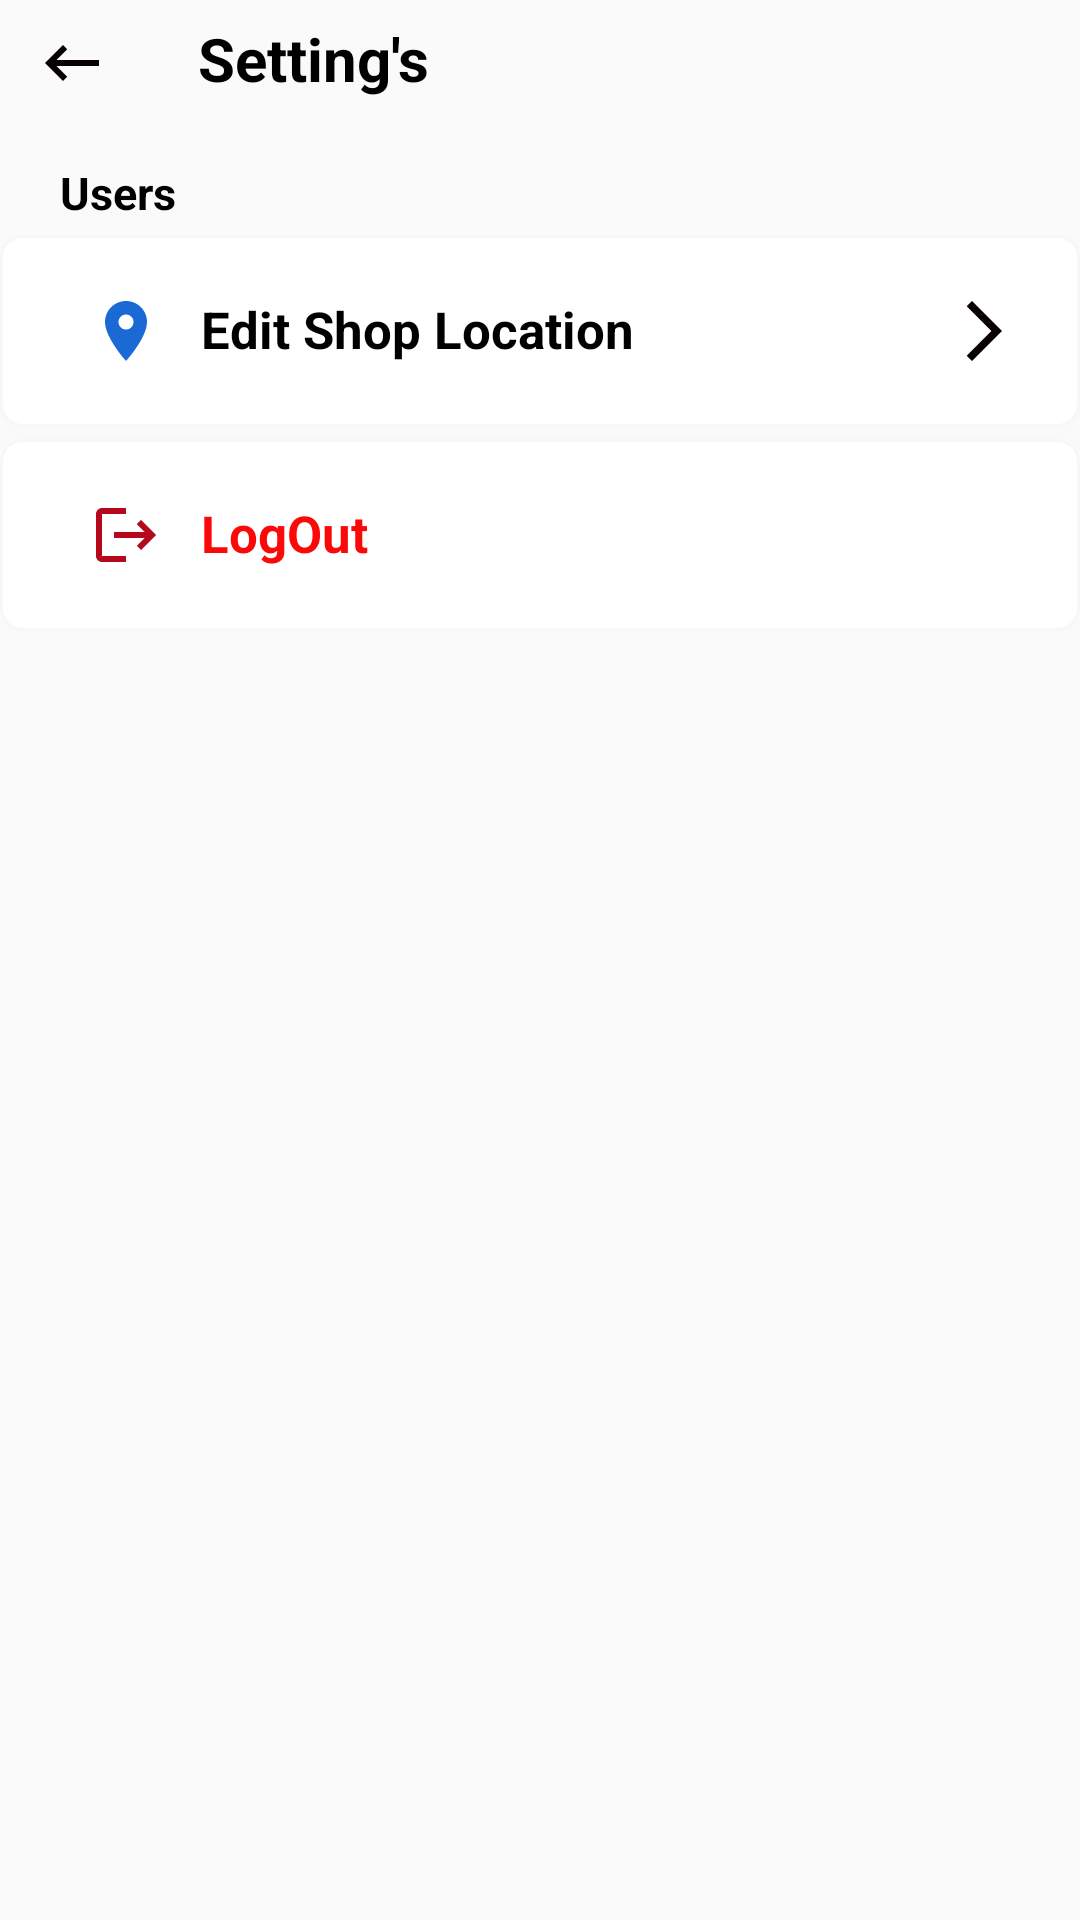

Icons on this 1080*1920 Android screen, each with its box as box(x1, y1, x2, y2):
backicone: box(45, 45, 99, 81)
